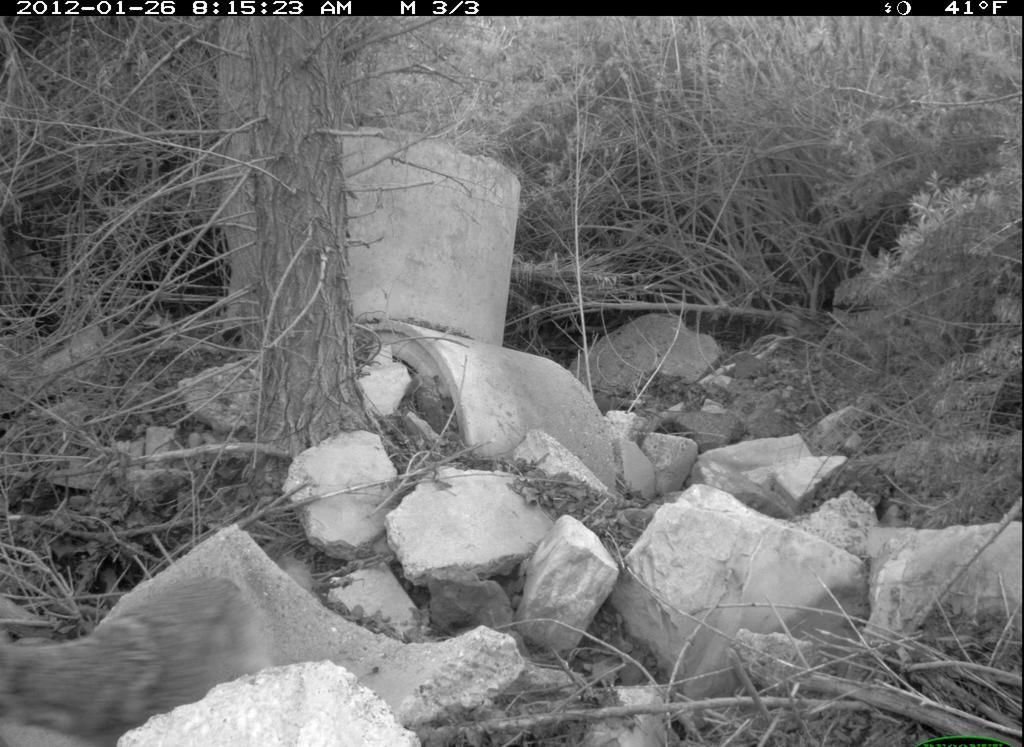coyote: (9, 570, 287, 729)
